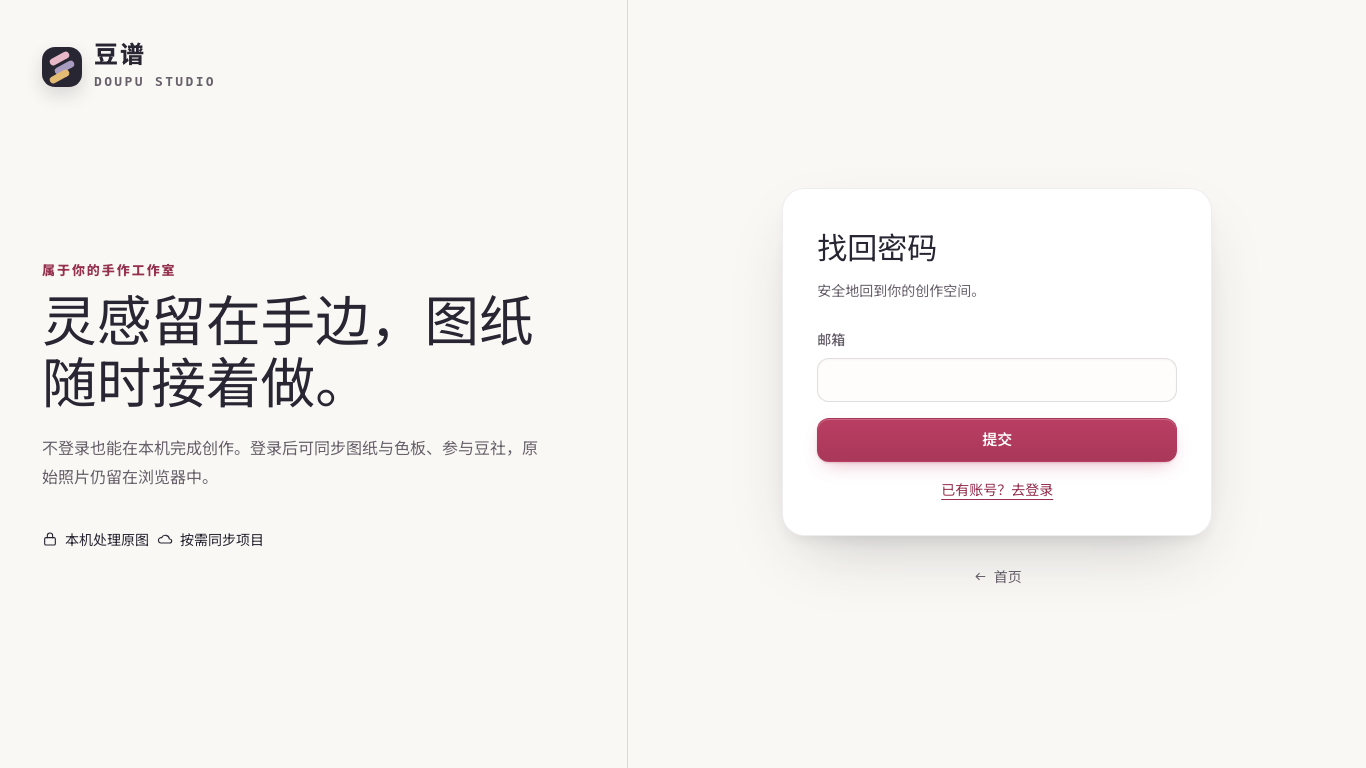
forgot-password 页 › 提交后恒成功提示（防枚举，spec E28）
In the field labelled "邮箱": (997, 380) [817,358,1177,402], type "a@b.com"
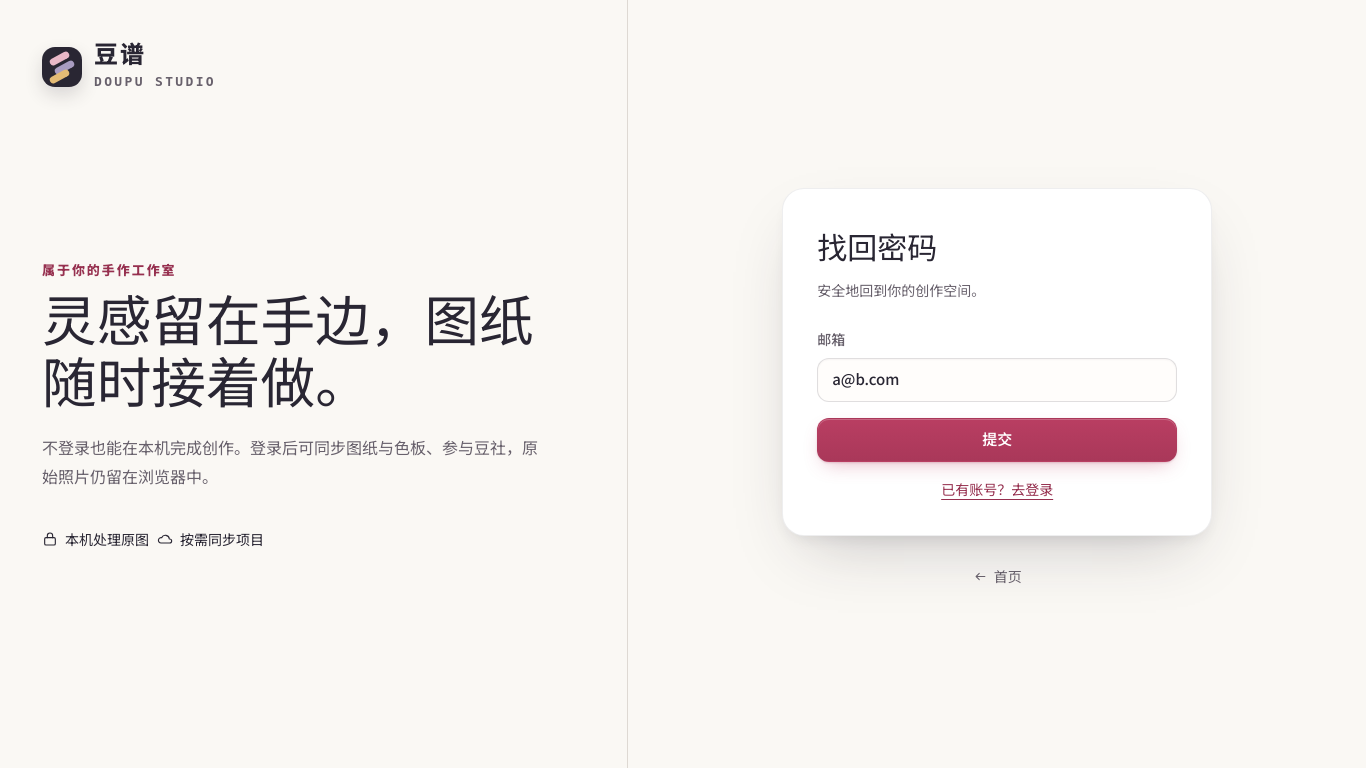
Click the button "提交": (997, 440) [817,418,1177,462]
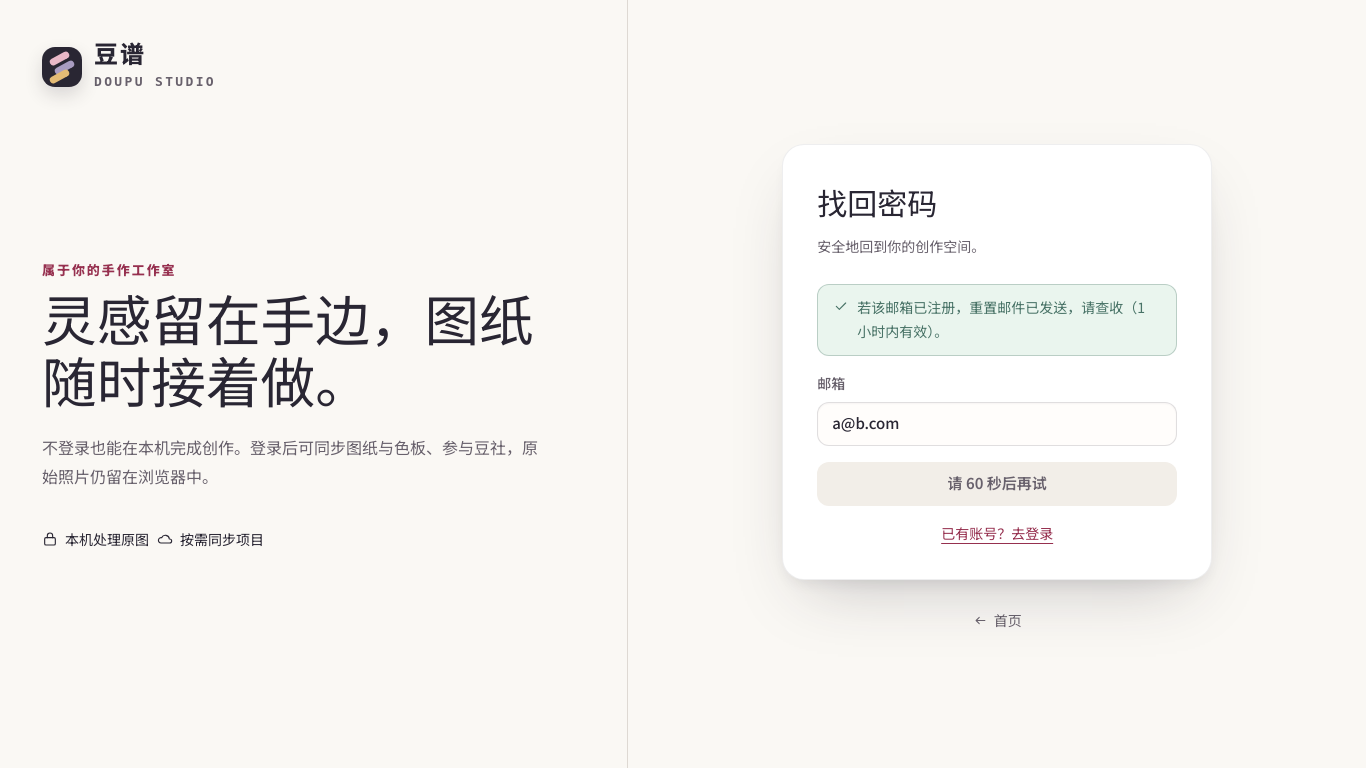
Expected: the message reads "若该邮箱已注册，重置邮件已发送，请查收（1 小时内有效）。", [857,299,1145,340]
